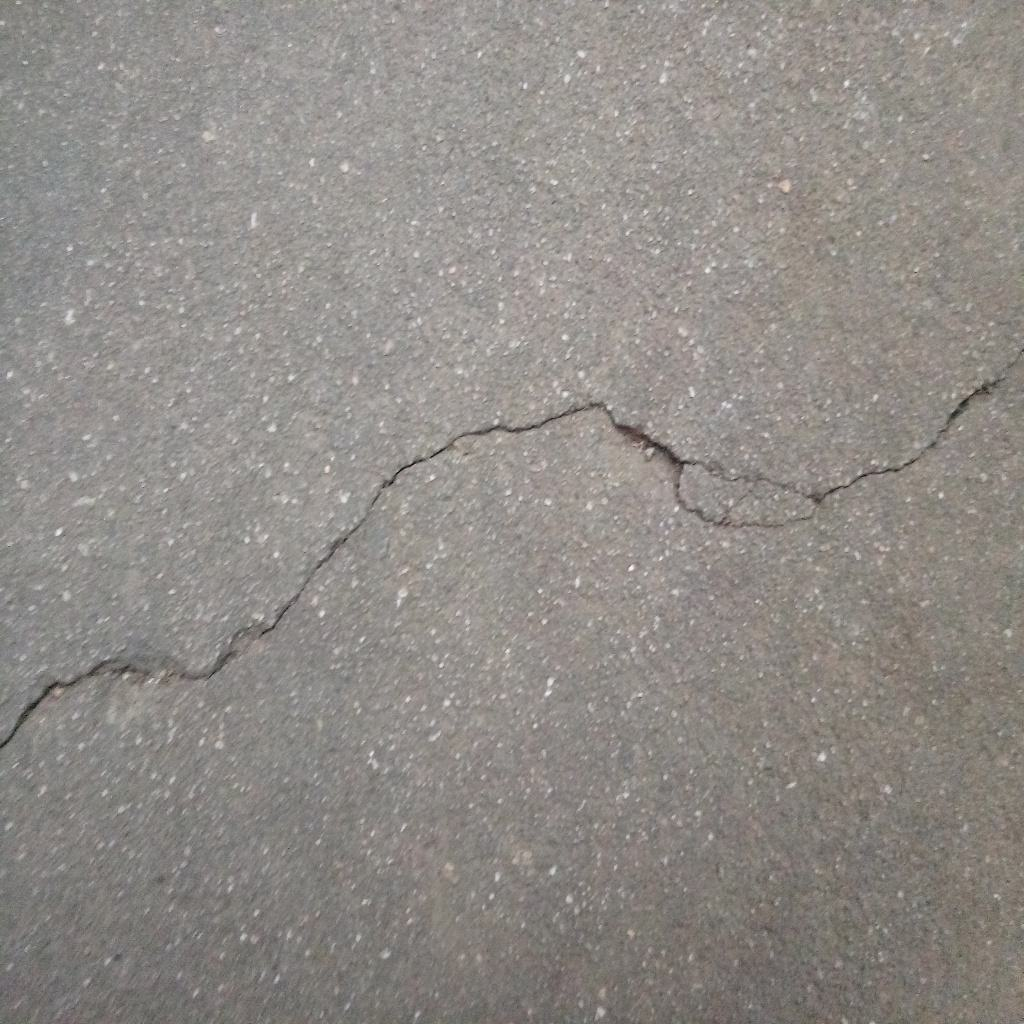Crack: (1, 351, 1024, 751)
